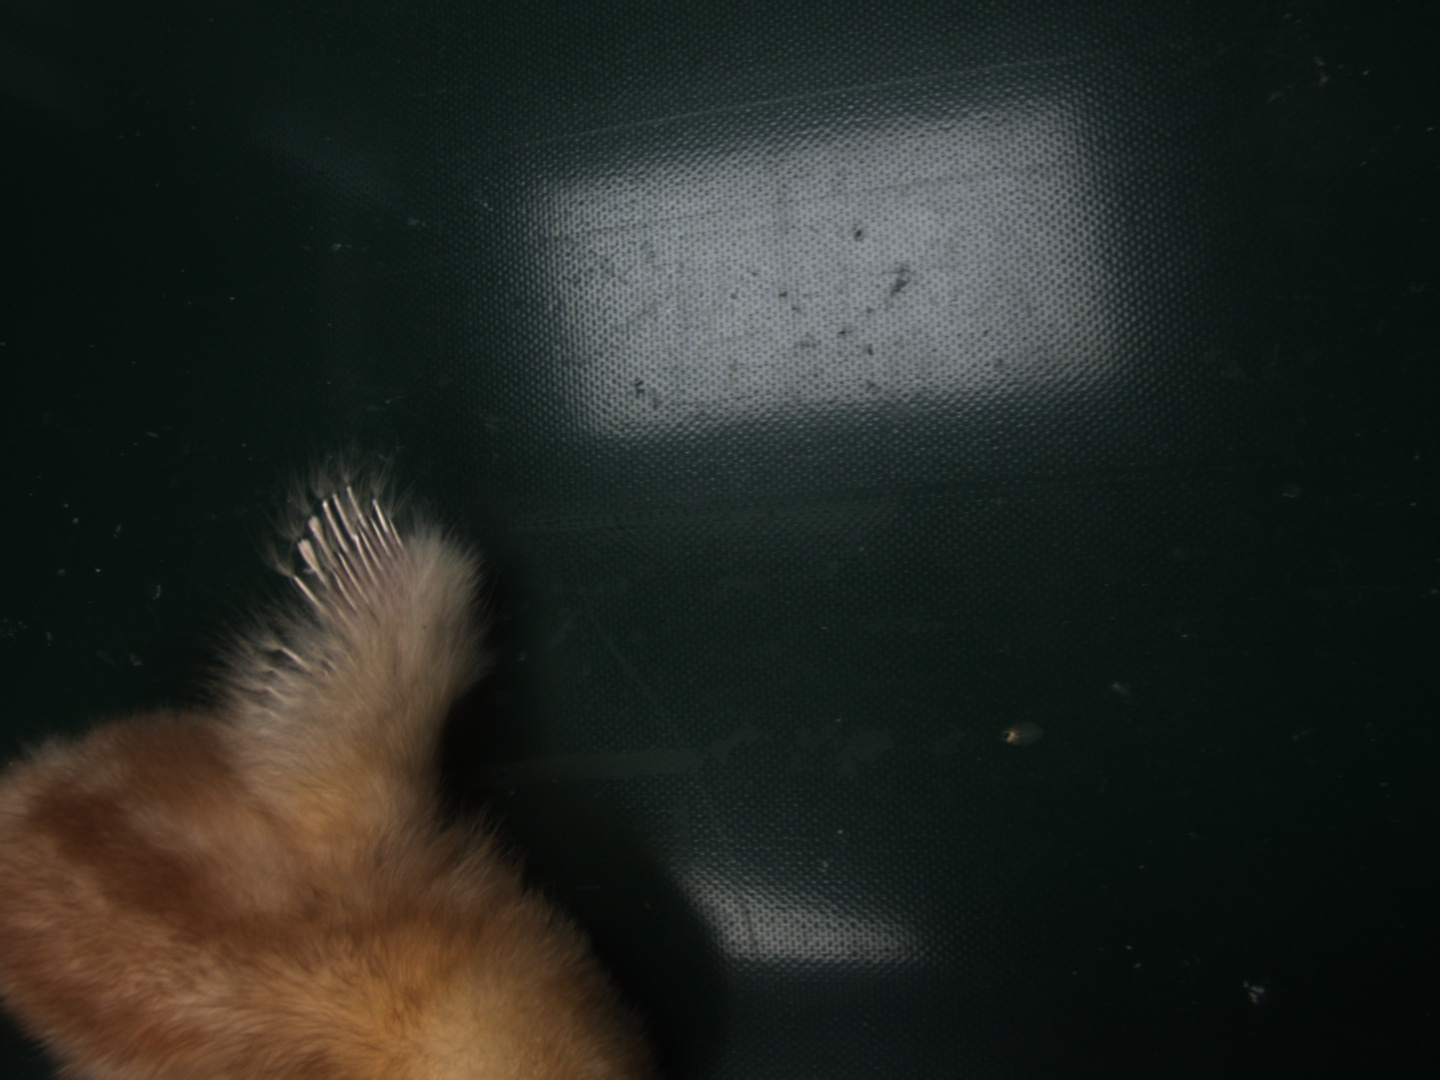female: (286, 483, 407, 617)
